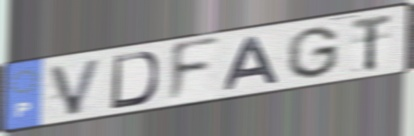A: (222, 34, 283, 92)
D: (108, 50, 161, 112)
F: (166, 34, 223, 107)
G: (283, 25, 341, 81)
T: (349, 11, 394, 74)
V: (47, 55, 106, 118)
